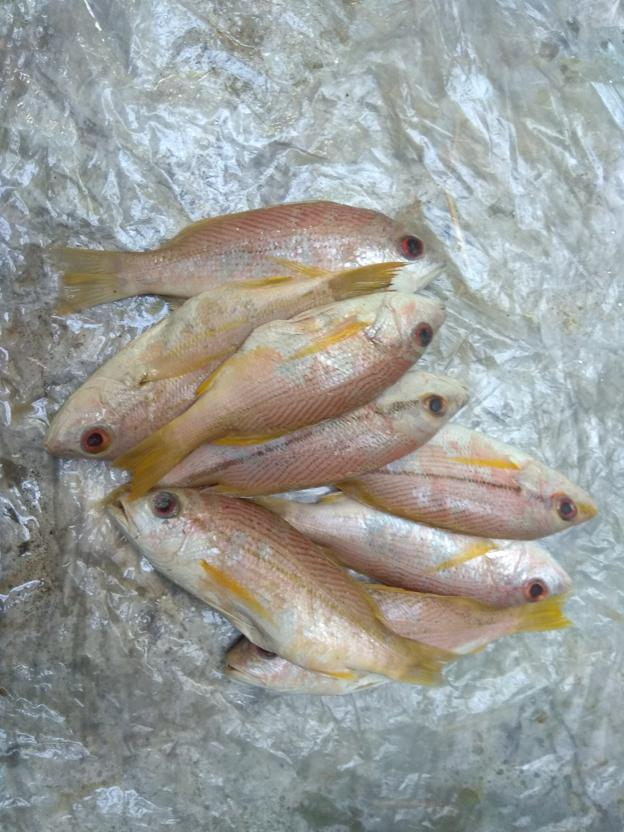Fish head: (44, 373, 150, 463), (107, 487, 212, 568), (222, 636, 350, 694), (356, 211, 446, 291), (379, 367, 472, 439), (364, 291, 448, 367), (521, 462, 599, 543), (493, 538, 573, 610)
Fish tail: (45, 246, 137, 317), (120, 417, 196, 501), (380, 630, 463, 691), (517, 597, 570, 635)
